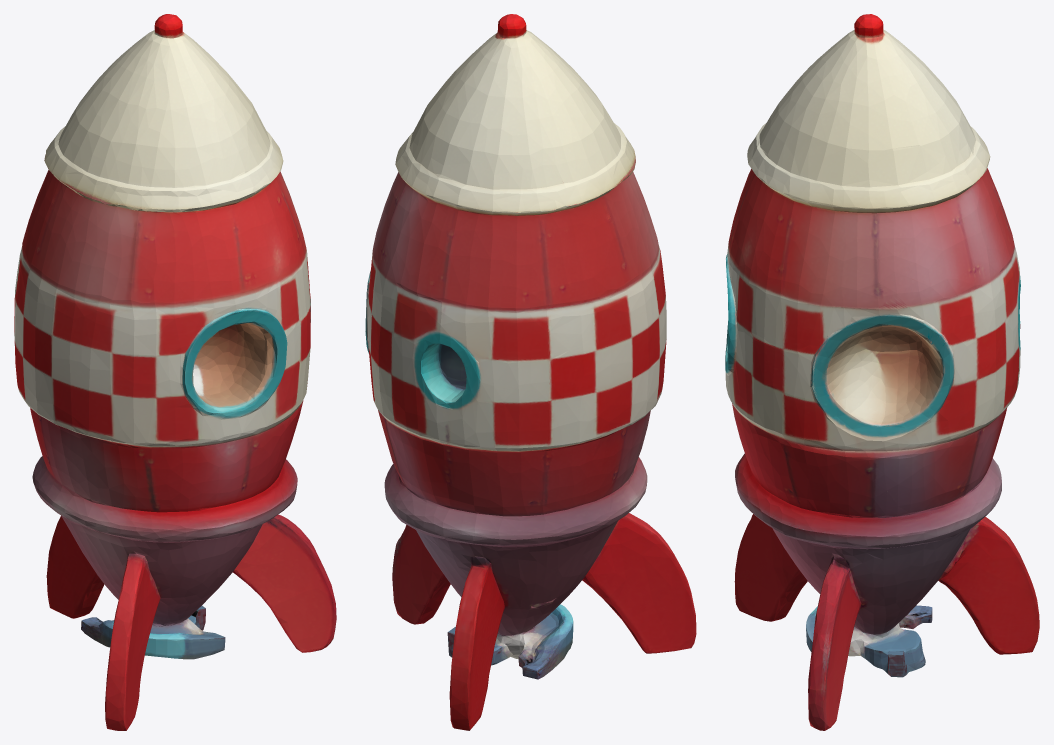
3 views of the same model, side by side, from view 1: azimuth 30°, elevation 25°; view 2: azimuth 150°, elevation 25°; view 3: azimuth 270°, elevation 25° (orthographic).
Visible parts, largest first — view 1: world; view 2: world; view 3: world.
Part boxes in pixels (x1,y1,x2,y2): world: (14,14,336,730); world: (365,14,696,730); world: (725,14,1039,730).
Bounding box in the file's own units: 0.4076 × 0.9096 × 0.3991.
Materials: 1 (1 with a texture image).
